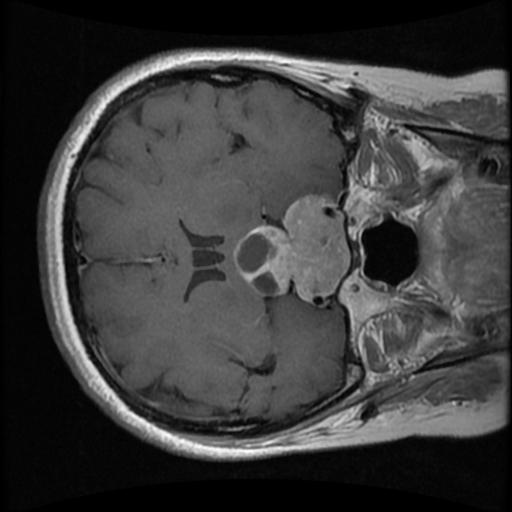pituitary tumour: (233, 194, 348, 300)
